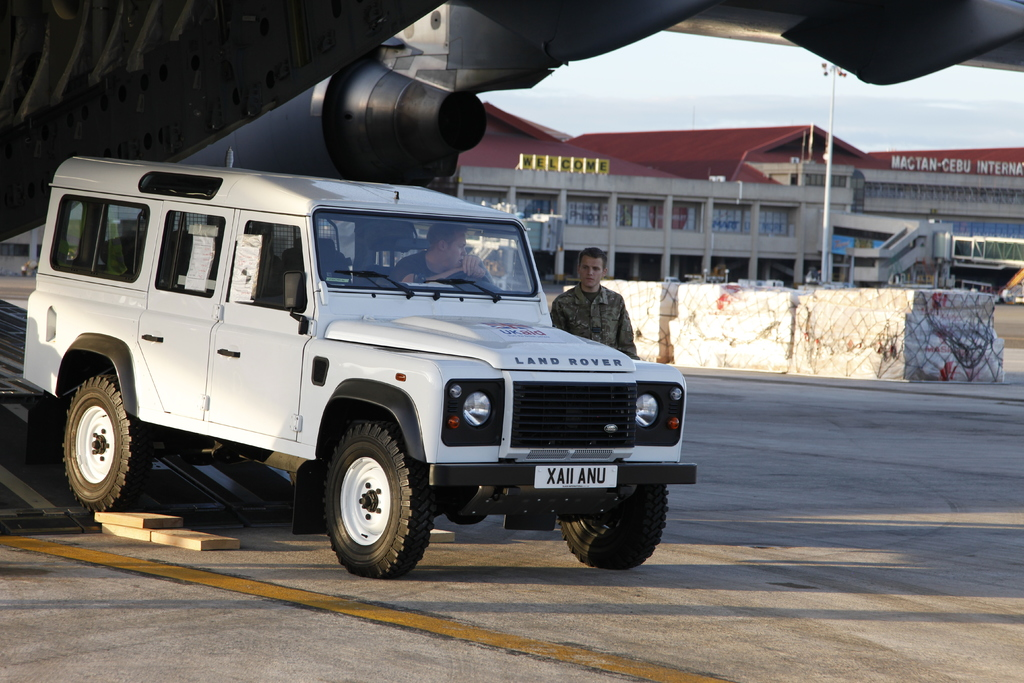person: (549, 245, 639, 359)
